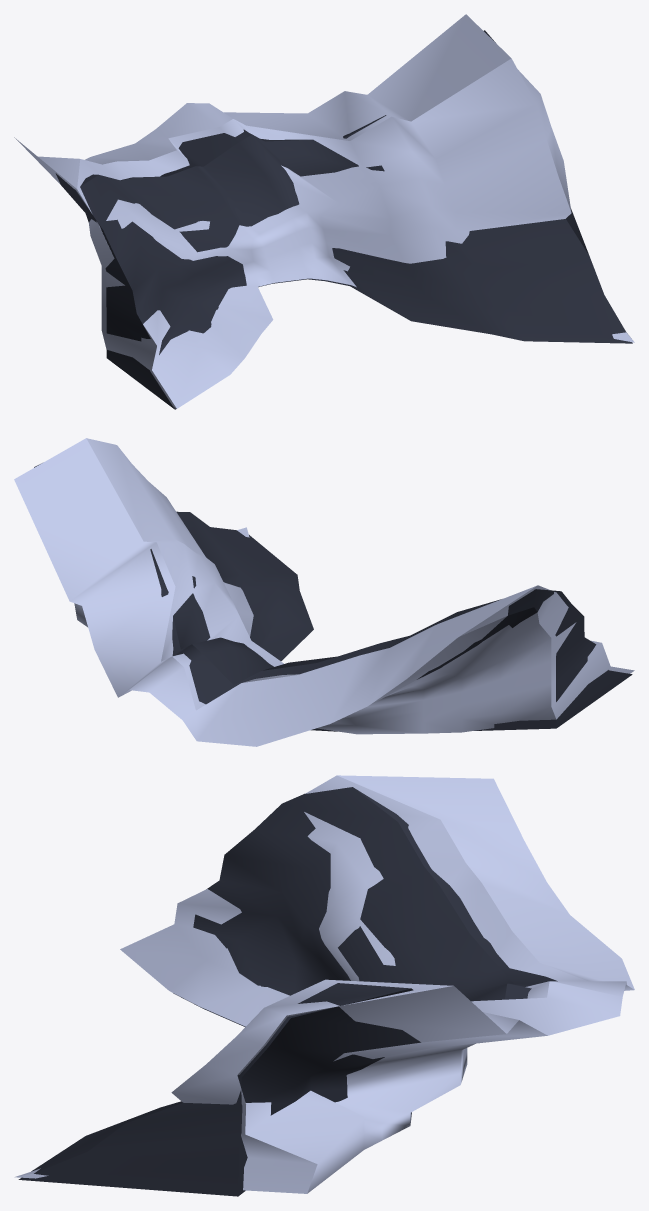
Rendered from MountainHoudiniTest.fbx.
3 renders of one model, top to bottom at view 1: azimuth 30°, elevation 25°; view 2: azimuth 150°, elevation 25°; view 3: azimuth 270°, elevation 25°, orthographic. The views are drawn at different scales.
Parts seen in each view (by area): view 1: Mountain2, Mountain1; view 2: Mountain2, Mountain1; view 3: Mountain2, Mountain1.
Part boxes in pixels (x1,y1,x2,y2): Mountain2: (14,14,634,408); Mountain1: (55,30,632,409); Mountain2: (14,438,634,746); Mountain1: (34,463,632,731); Mountain2: (14,775,634,1193); Mountain1: (18,787,557,1196).
Bounding box in the file's own units: 33.32 × 13.07 × 35.39.
